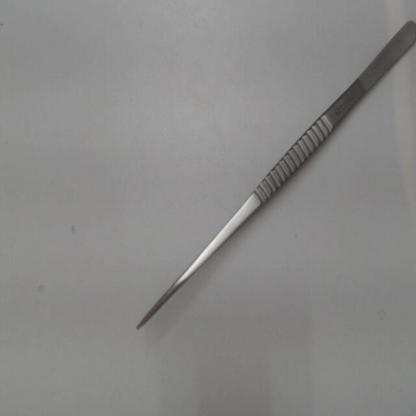DeBakey Dissector: (132, 5, 415, 360)
